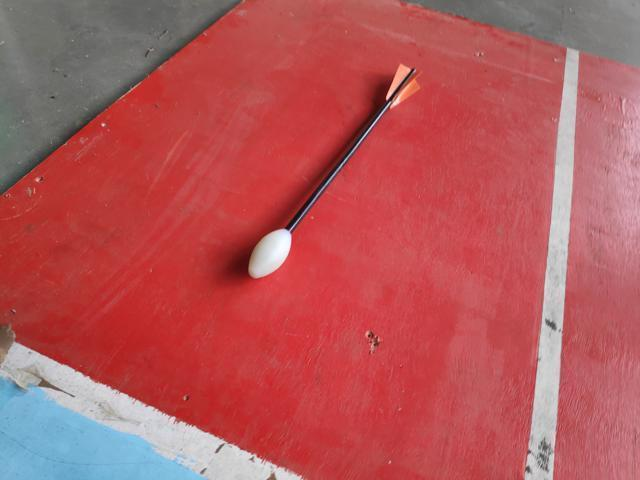Head: (243, 226, 295, 283)
Tail: (387, 62, 424, 108)
